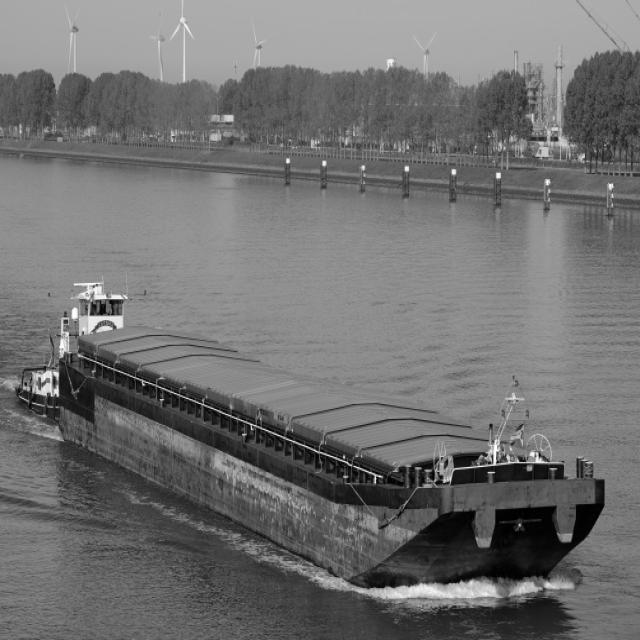tugboat: (13, 271, 142, 428)
